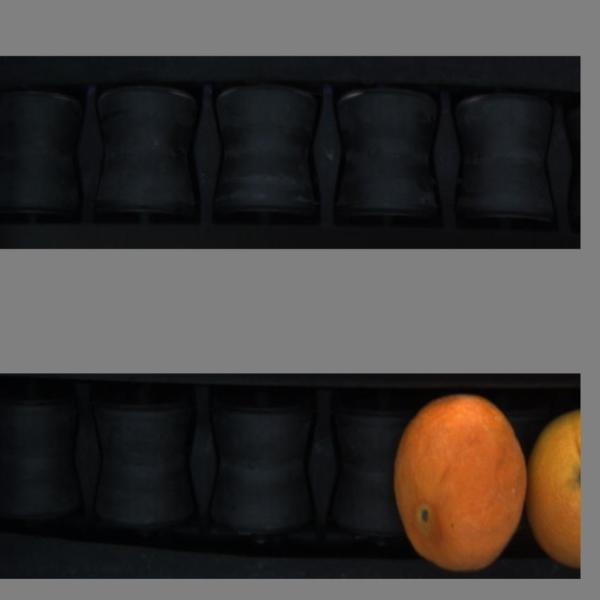Sana: (391, 387, 529, 574), (531, 400, 583, 572)
